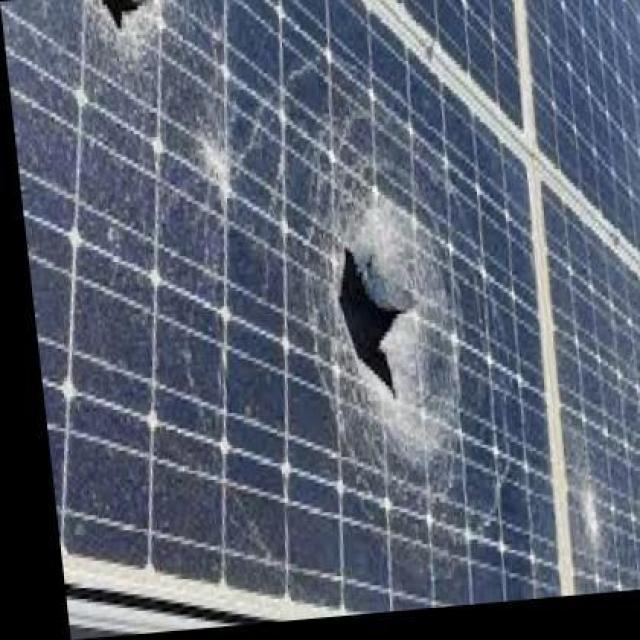cracked: (3, 2, 564, 620)
